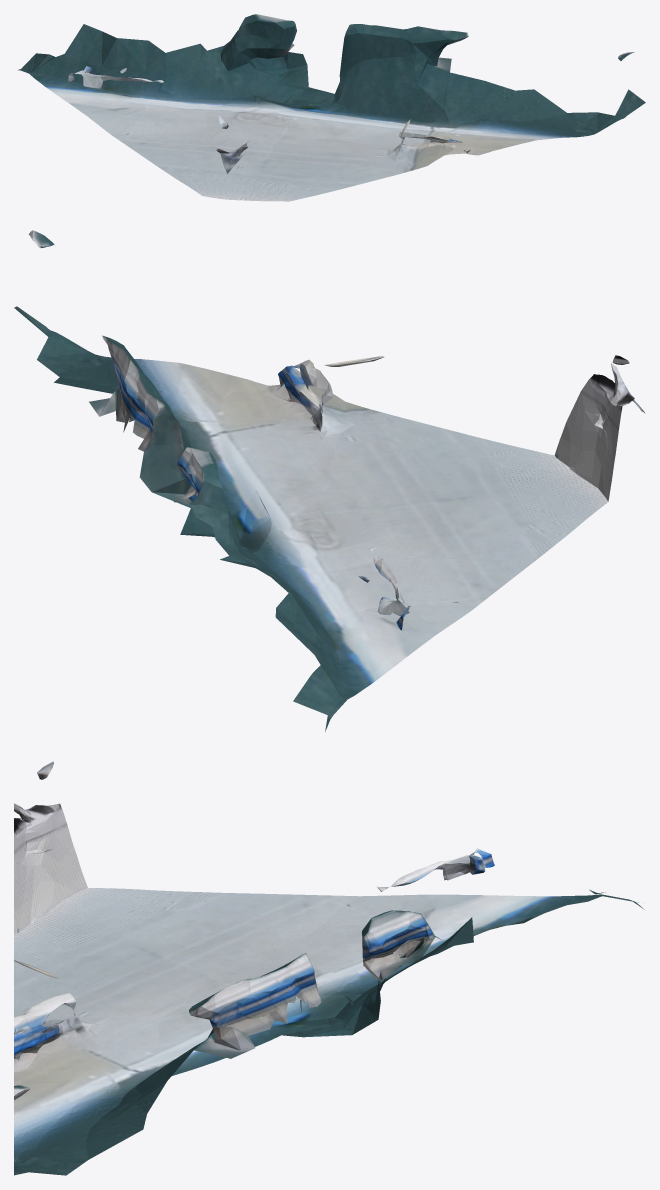
3 views of the same model, one above another, from view 1: azimuth 30°, elevation 25°; view 2: azimuth 150°, elevation 25°; view 3: azimuth 270°, elevation 25° (orthographic). The views are drawn at different scales.
Bounding box in the file's own units: 4.05 × 0.9525 × 3.58.
1 material, 1 textured.
